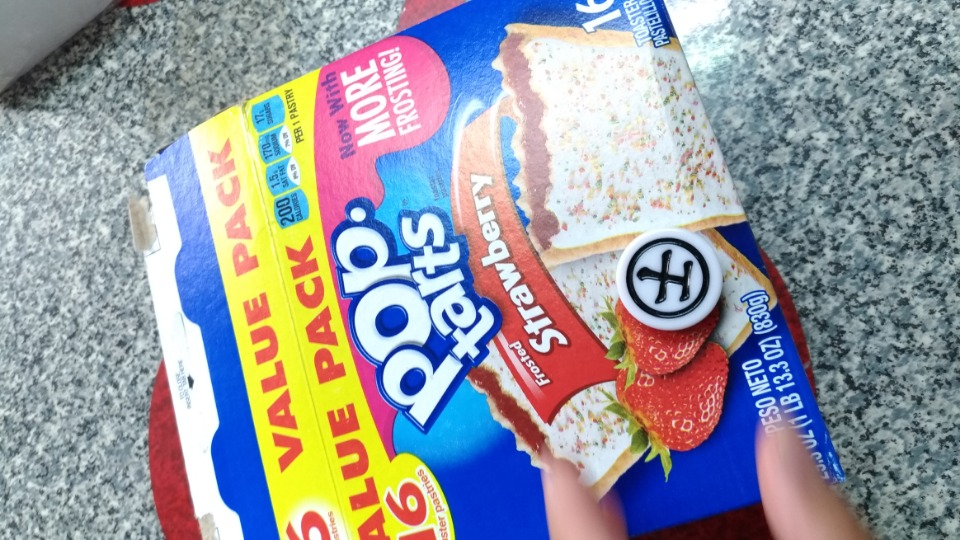b-advisor: (607, 224, 750, 365)
